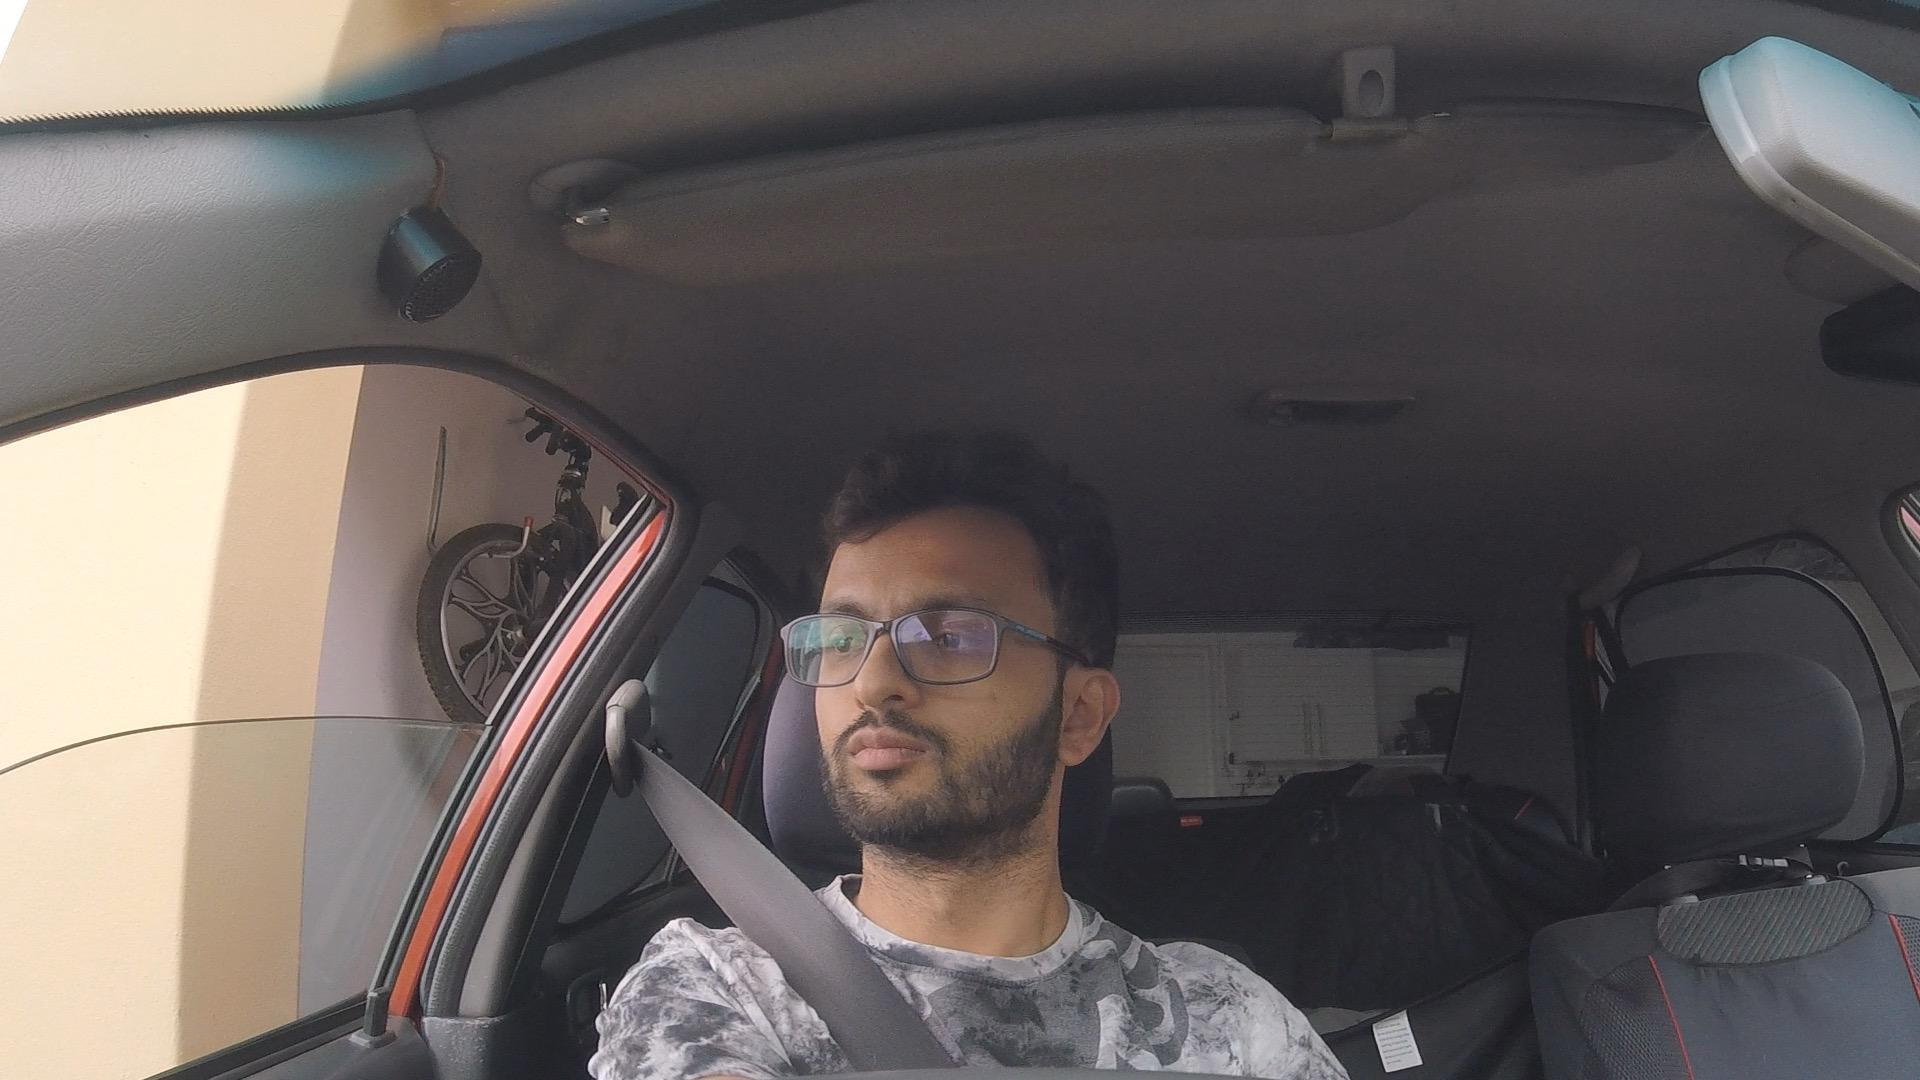Distracted: (624, 398, 1345, 1080)
SafeDriving: (775, 422, 1124, 851)
